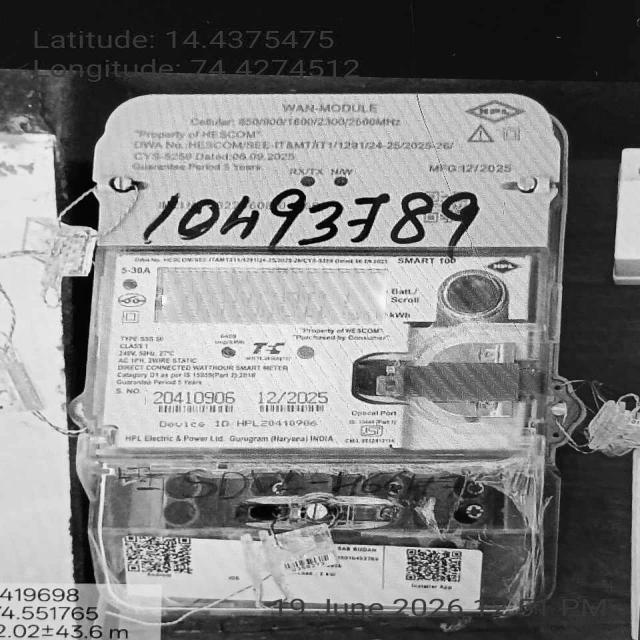meter: (96, 99, 562, 454)
